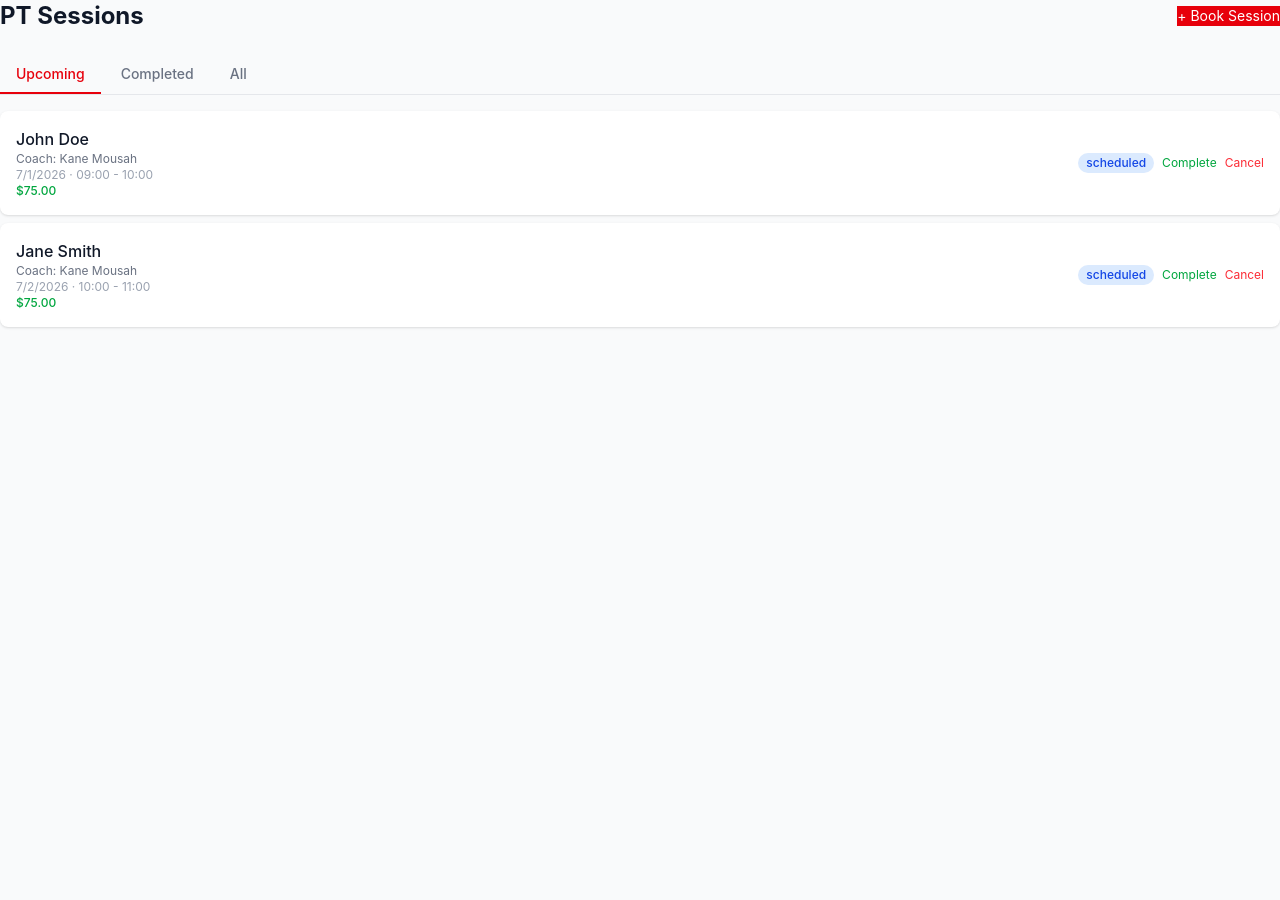
Test: PTSessions Page › selecting a member from search results updates UI
Click the button "+ Book Session" at (1229, 16), box [1177,6,1279,26]
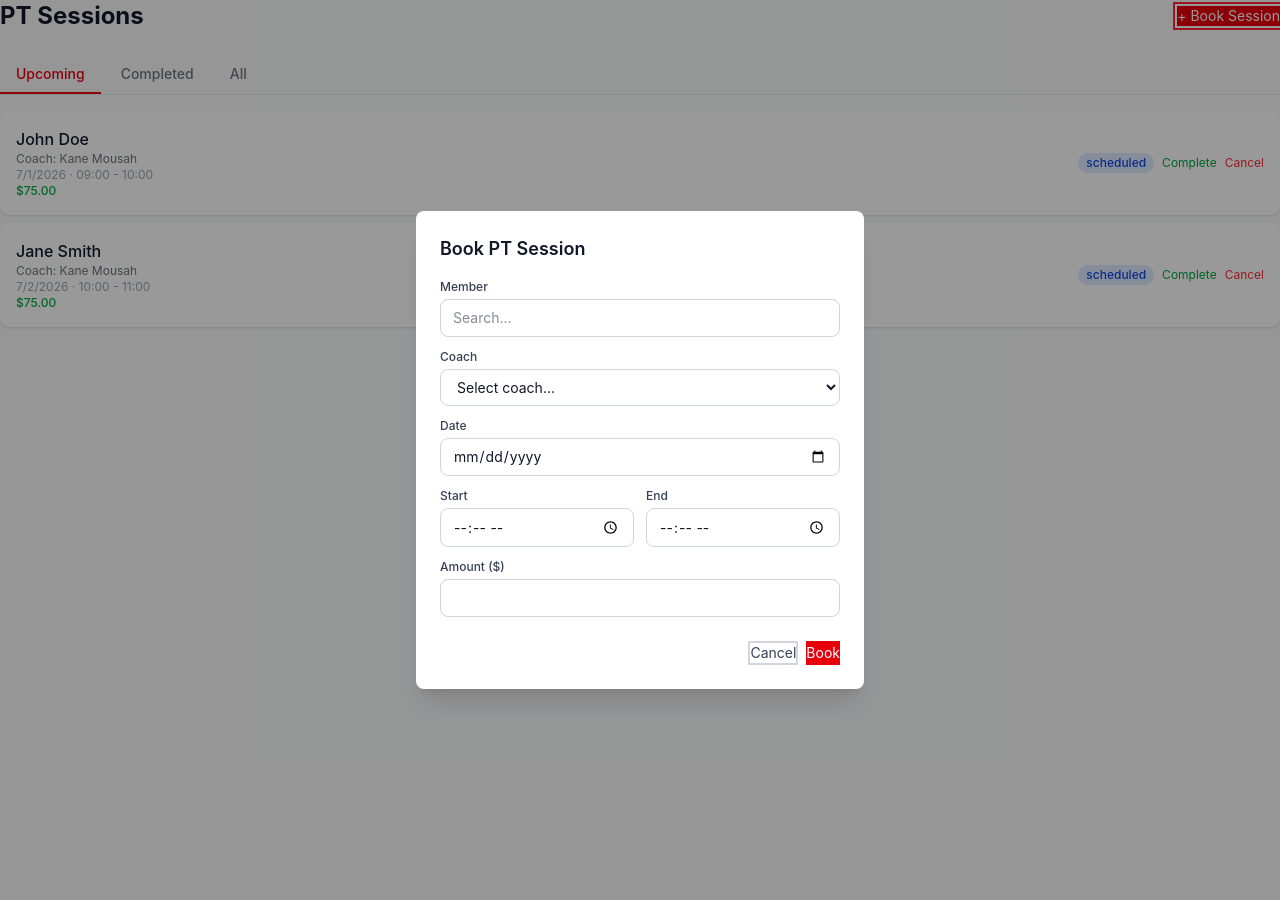
Result: the field with placeholder "Search..." is shown
Type "Jo" into the field with placeholder "Search..." at (640, 318), box [440,299,840,337]
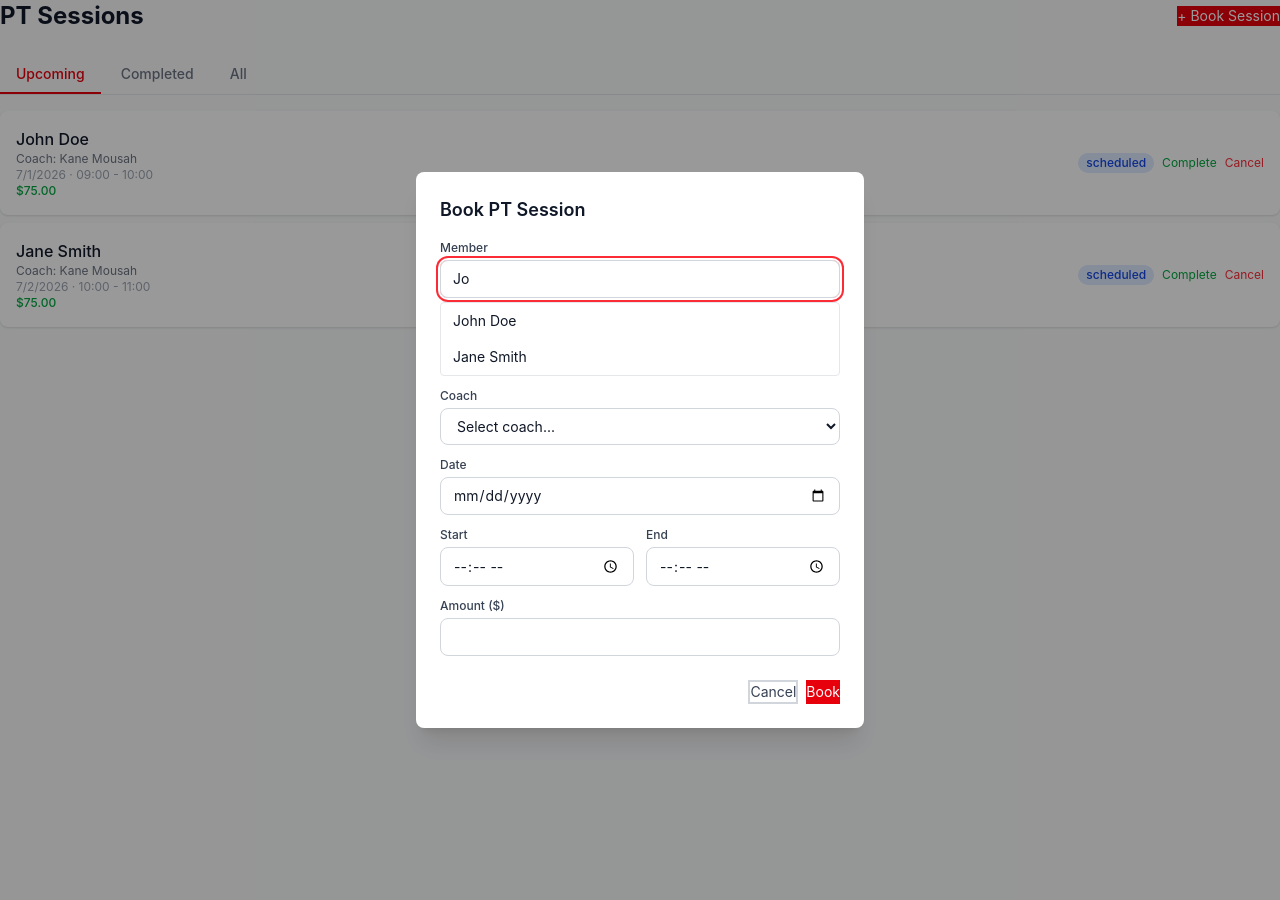
Click the text "John Doe" at (485, 321), box [453,312,516,329]
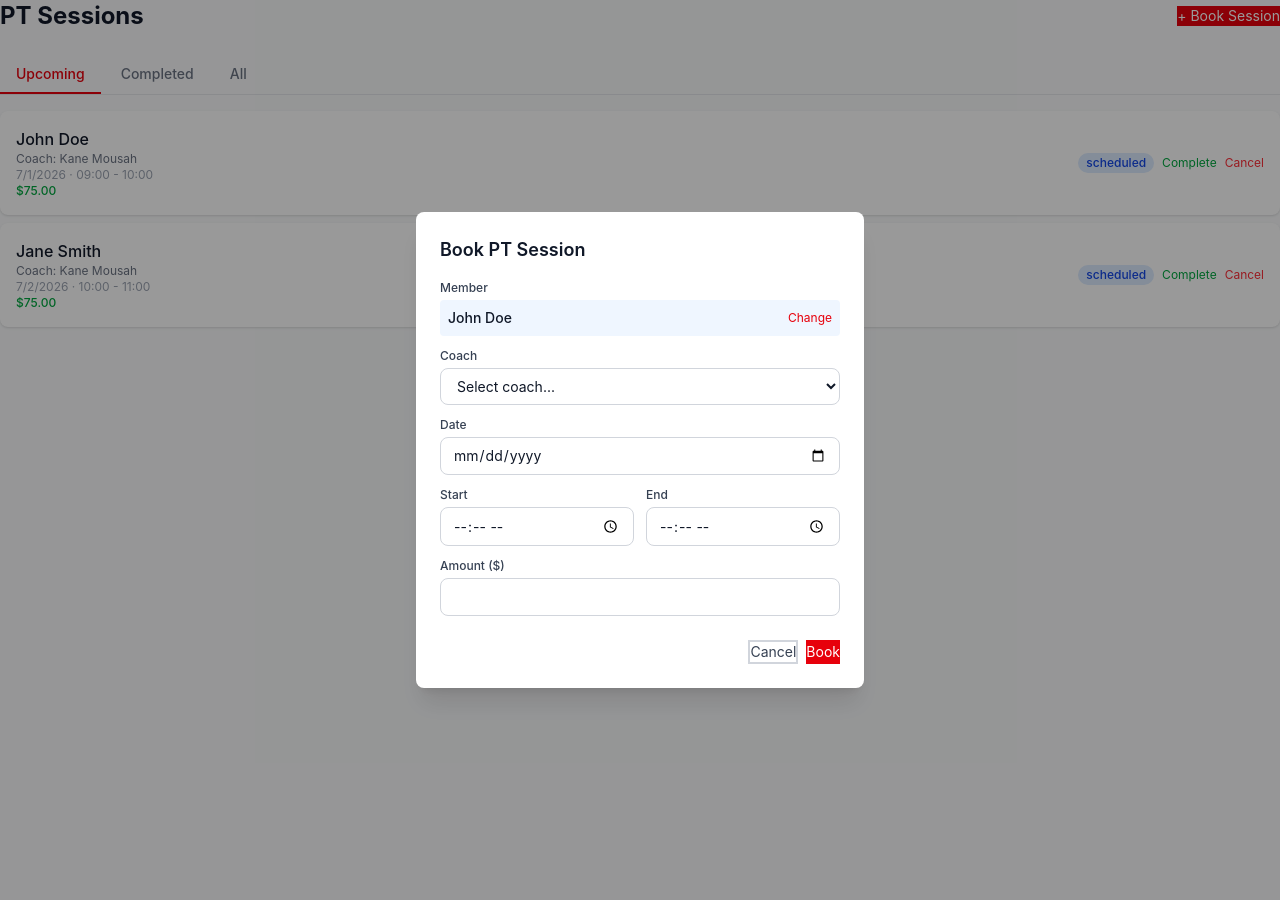
Result: the button "Change" is shown at [788,310,832,326]
Result: the field with placeholder "Search..." is gone
